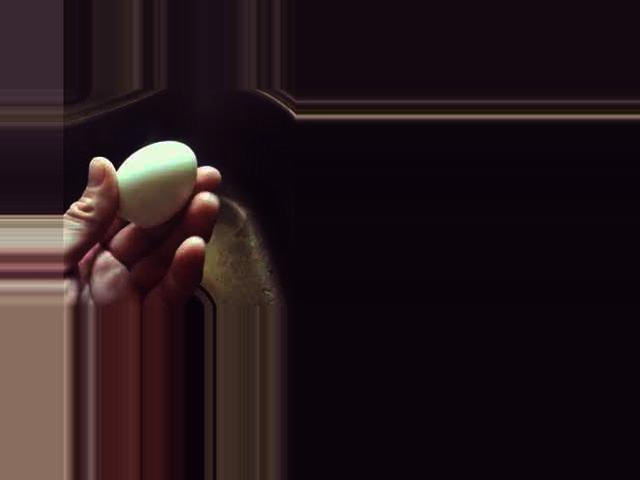egg: (115, 140, 197, 226)
